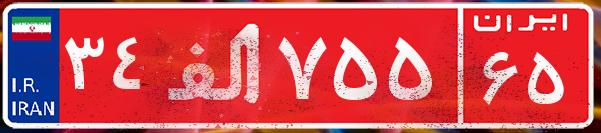3: (57, 26, 110, 107)
4: (110, 28, 158, 105)
5: (385, 28, 445, 110), (330, 28, 385, 110), (525, 38, 570, 115)
6: (475, 38, 525, 113)
7: (273, 28, 330, 110)
الف: (158, 15, 273, 115)
